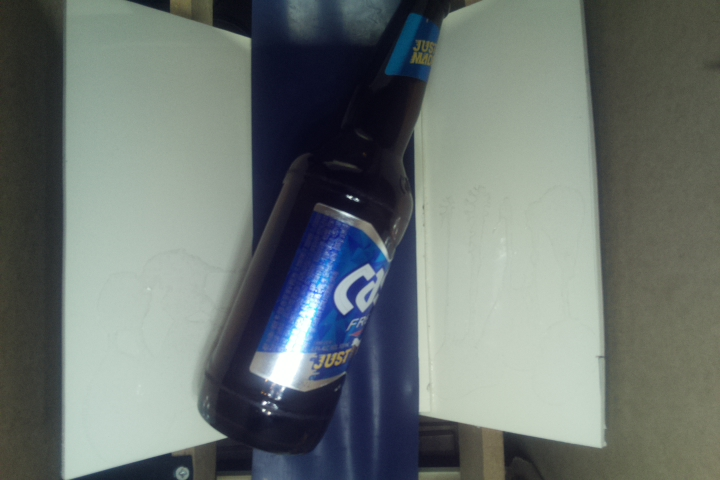makju: (195, 1, 460, 457)
